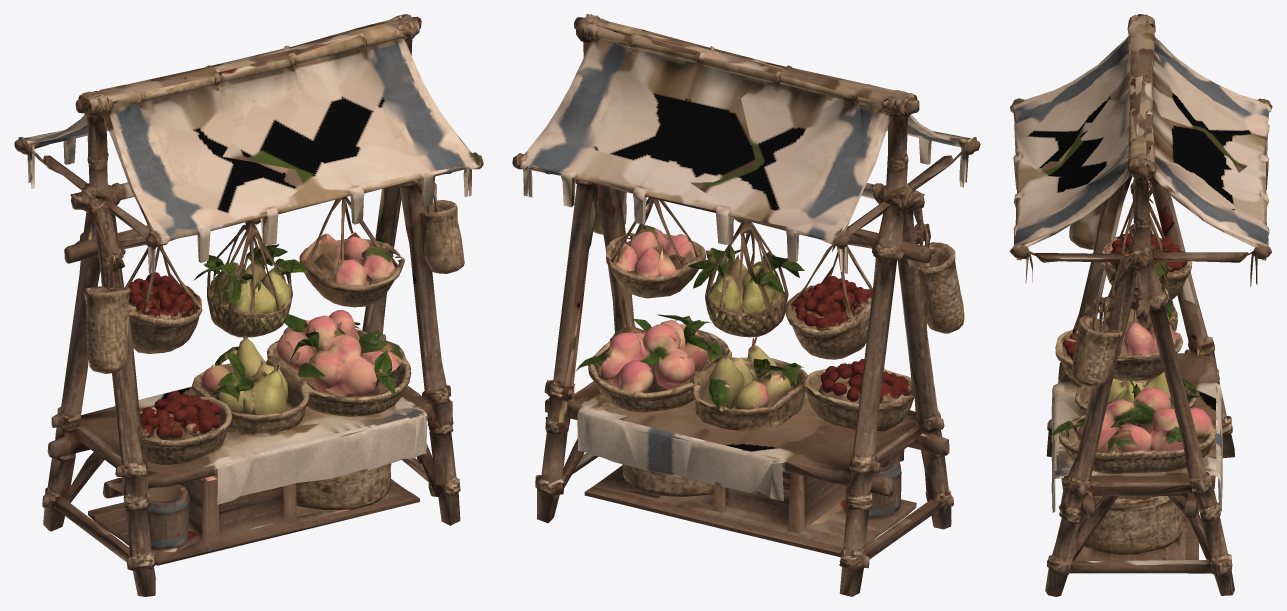
File: 07_Fruit_Hanging_Basket_Stall_LOD1.fbx
3 views of the same model, side by side, from view 1: azimuth 30°, elevation 25°; view 2: azimuth 150°, elevation 25°; view 3: azimuth 270°, elevation 25° (orthographic). The views are drawn at different scales.
Visible parts, largest first — view 1: 07_Fruit_Hanging_Basket_Stall_L1; view 2: 07_Fruit_Hanging_Basket_Stall_L1; view 3: 07_Fruit_Hanging_Basket_Stall_L1.
Boxes of the visible parts, box(x1,y1,x2,y2) form: 07_Fruit_Hanging_Basket_Stall_L1: box(14, 14, 483, 596); 07_Fruit_Hanging_Basket_Stall_L1: box(512, 14, 980, 596); 07_Fruit_Hanging_Basket_Stall_L1: box(1009, 14, 1272, 596).
Size of the model in its own units: 1.99 by 2.4 by 1.31.
